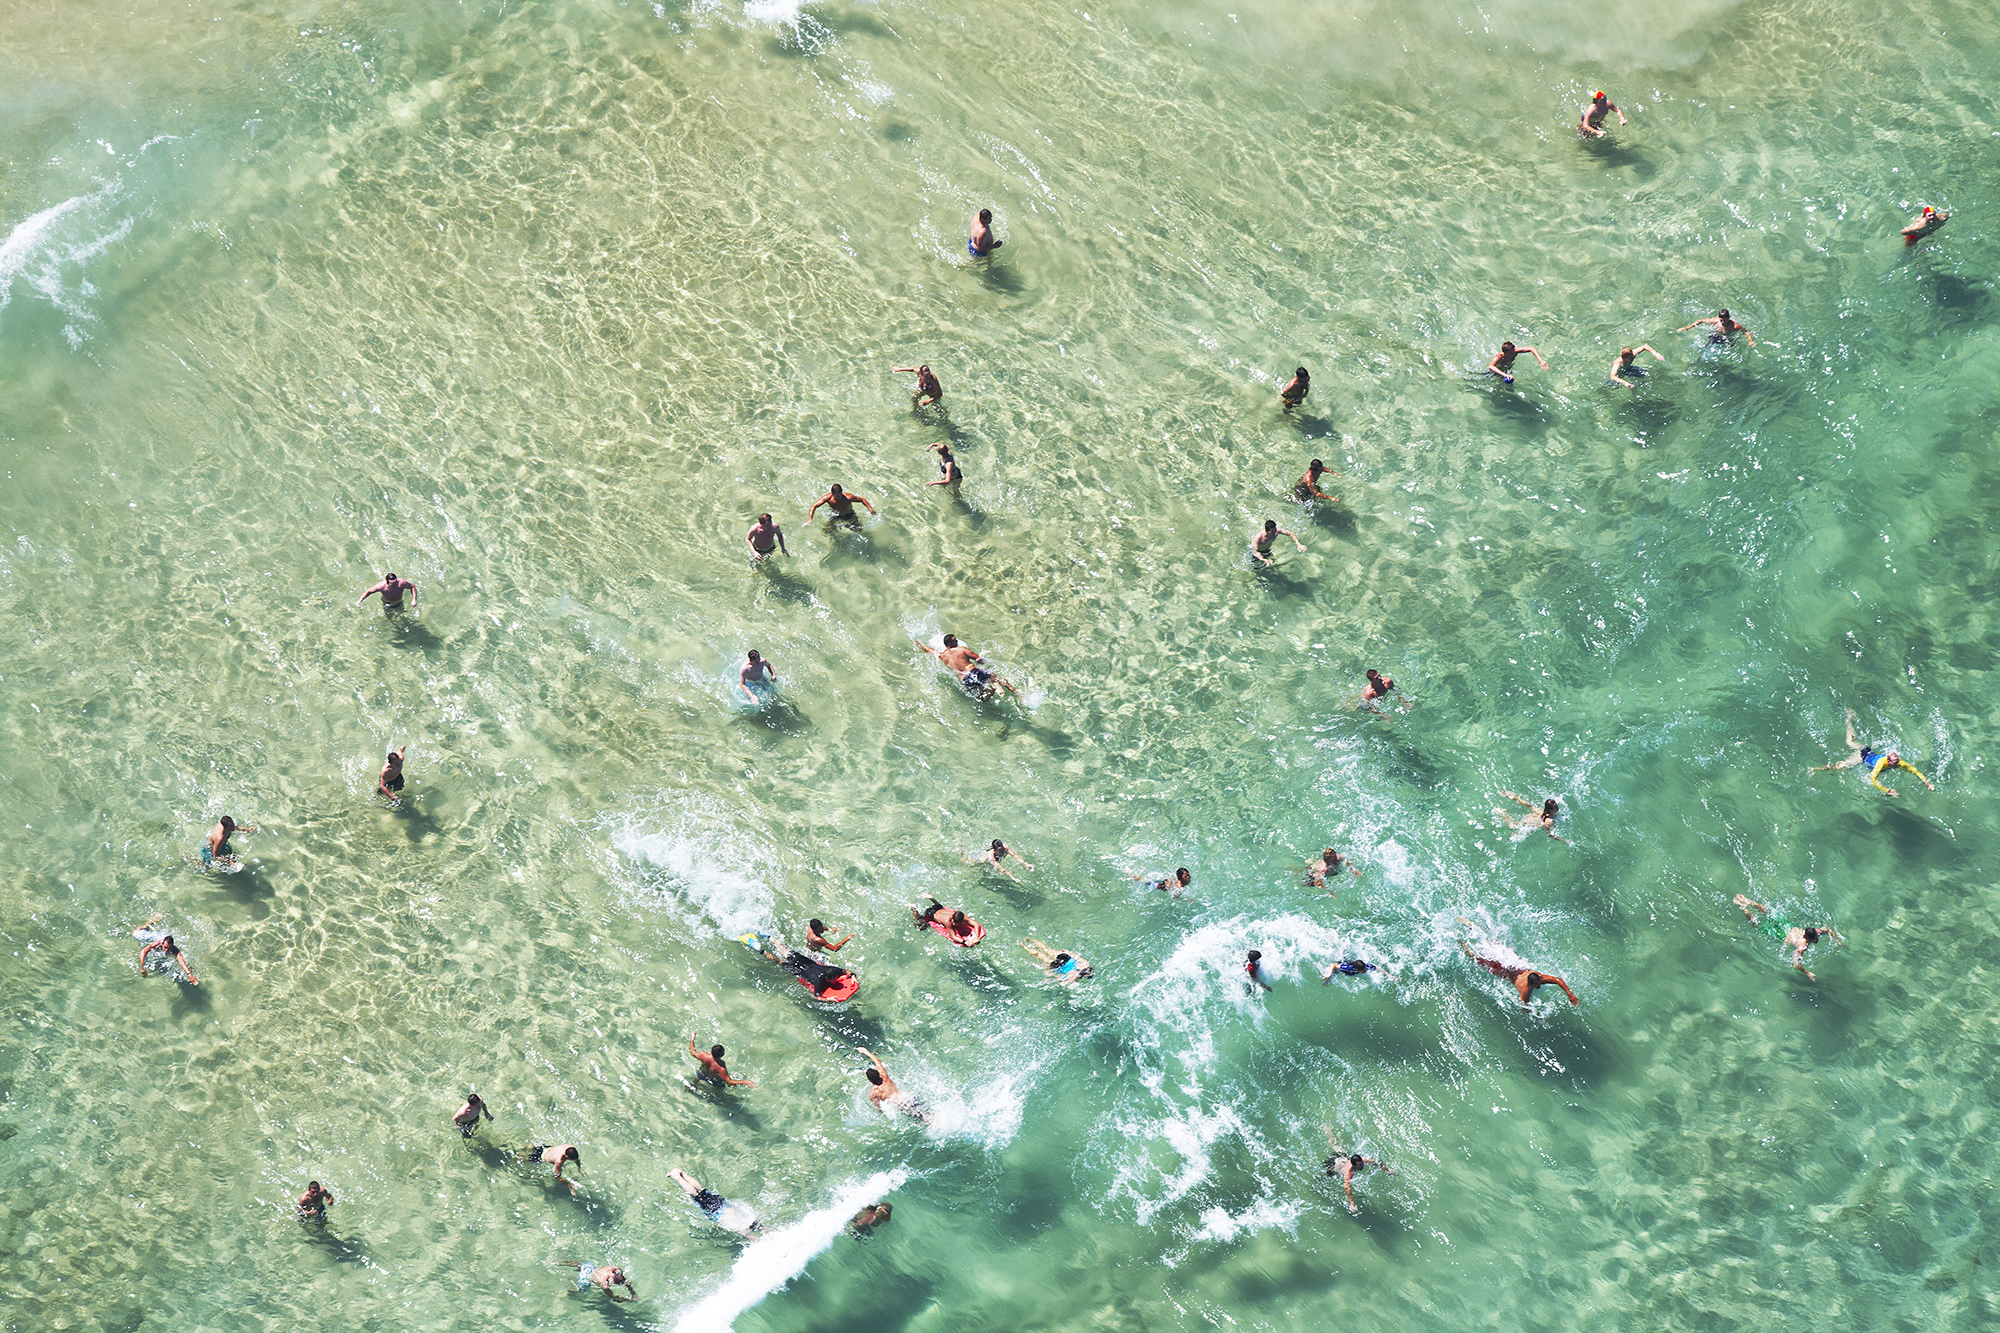people: (1803, 708, 1936, 803), (1726, 886, 1849, 985), (913, 625, 1032, 719), (1461, 930, 1582, 1022), (737, 926, 861, 1004), (665, 1167, 773, 1244), (1313, 1119, 1394, 1209), (854, 1045, 937, 1130), (1481, 785, 1575, 854), (130, 911, 201, 987), (1671, 305, 1761, 361), (900, 892, 987, 949), (806, 479, 878, 538), (512, 1143, 588, 1197), (689, 1029, 757, 1090), (1291, 846, 1365, 902), (555, 1258, 640, 1305), (1016, 936, 1095, 983), (352, 567, 423, 621), (958, 838, 1036, 884), (885, 360, 949, 417), (1242, 518, 1307, 573), (200, 814, 259, 872), (1310, 950, 1392, 992), (1482, 338, 1549, 389), (917, 437, 975, 495), (1606, 341, 1674, 390), (1574, 90, 1629, 147), (730, 644, 781, 706), (1897, 203, 1956, 254), (737, 508, 788, 566), (1287, 456, 1343, 506), (1123, 867, 1199, 901), (964, 205, 1007, 264), (1350, 663, 1403, 708), (451, 1092, 496, 1141), (378, 743, 410, 806), (803, 918, 857, 957), (1233, 947, 1276, 995), (849, 1201, 893, 1244), (1274, 367, 1314, 415), (298, 1181, 334, 1228)
